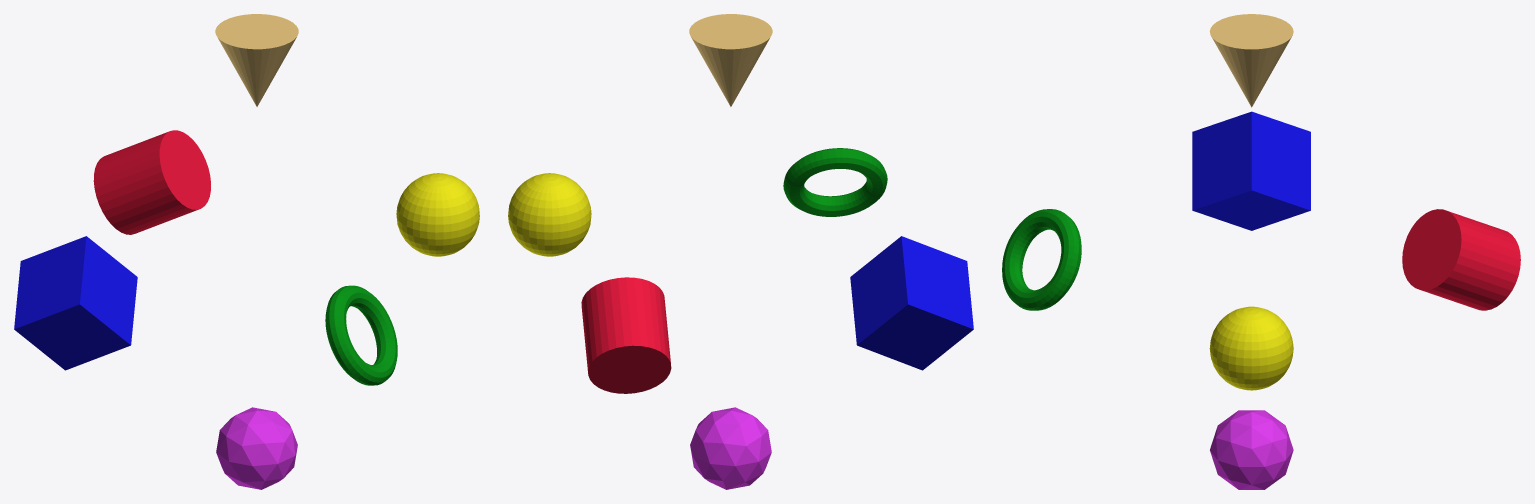
File: simple meshes.glb
3 views of the same model, side by side, from view 1: azimuth 30°, elevation 25°; view 2: azimuth 150°, elevation 25°; view 3: azimuth 270°, elevation 25° (orthographic).
Visible parts, largest first — view 1: Cube, Cylinder, Sphere, Icosphere, Cone, Torus; view 2: Cube, Cylinder, Sphere, Icosphere, Cone, Torus; view 3: Cube, Cylinder, Sphere, Icosphere, Torus, Cone.
Part boxes in pixels (box(x1,y1,x2,y2)): Cube: box(14, 236, 137, 370); Cylinder: box(93, 130, 210, 234); Sphere: box(396, 173, 479, 256); Icosphere: box(216, 407, 297, 489); Cone: box(215, 14, 298, 106); Torus: box(325, 285, 397, 385); Cube: box(850, 236, 973, 370); Cylinder: box(581, 277, 671, 393); Sphere: box(508, 173, 591, 256); Icosphere: box(690, 407, 771, 489); Cone: box(689, 14, 772, 106); Torus: box(783, 148, 887, 216); Cube: box(1192, 111, 1310, 230); Cylinder: box(1402, 209, 1520, 310); Sphere: box(1209, 306, 1293, 390); Icosphere: box(1210, 410, 1293, 489); Torus: box(1002, 209, 1081, 310); Cone: box(1209, 14, 1293, 107).
Bounding box in the file's own units: 12.71 × 12 × 12.36.
